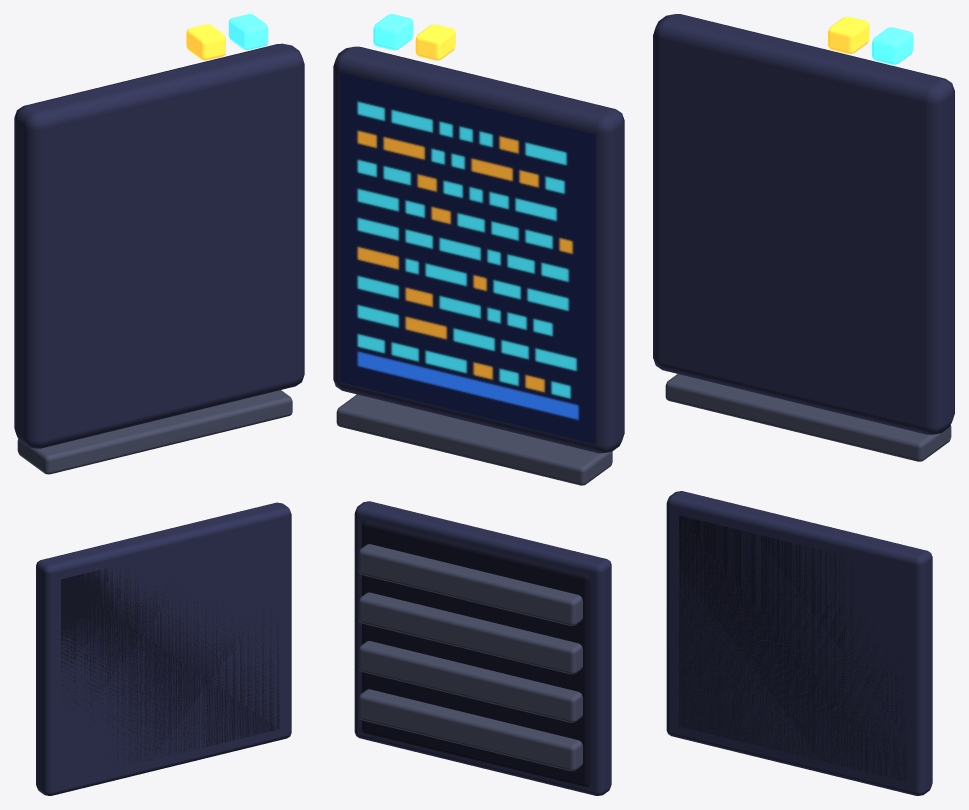
Rendered from prop.props_walls.walls_qa_terminal.glb.
3 renders of one model, left to right at view 1: azimuth 30°, elevation 25°; view 2: azimuth 150°, elevation 25°; view 3: azimuth 330°, elevation 25°, orthographic. The views are drawn at different scales.
Parts seen in each view (by area): view 1: prop.props_walls.walls_qa_terminal; view 2: prop.props_walls.walls_qa_terminal; view 3: prop.props_walls.walls_qa_terminal.
Part boxes in pixels (<box>): prop.props_walls.walls_qa_terminal: <box>14,14,304,795</box>; prop.props_walls.walls_qa_terminal: <box>333,14,624,795</box>; prop.props_walls.walls_qa_terminal: <box>653,14,954,795</box>.
Bounding box in the file's own units: 0.265 × 0.6521 × 0.05.
Materials: 6 (1 with a texture image).
